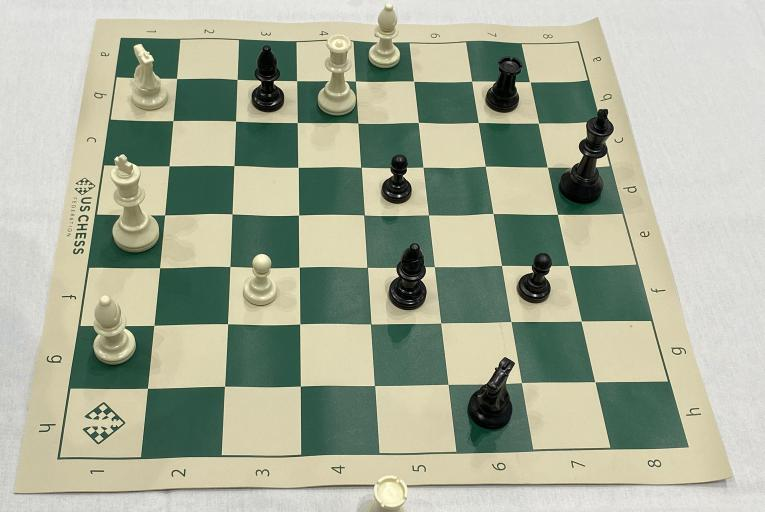black-bishop: (386, 240, 435, 319), (245, 37, 293, 117)
black-king: (555, 101, 623, 210)
black-knight: (463, 351, 527, 433)
black-pawn: (514, 252, 559, 308), (378, 151, 419, 211)
black-rook: (478, 50, 531, 123)
white-bishop: (85, 288, 148, 369), (366, 2, 409, 74)
white-king: (101, 146, 170, 261)
white-knight: (121, 35, 182, 116)
white-pawn: (237, 250, 284, 310)
white-queen: (313, 31, 368, 124)
